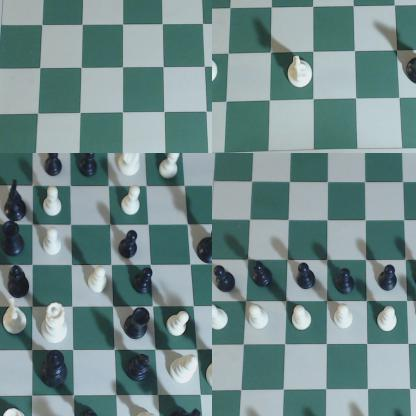black-bishop: (7, 264, 32, 303), (125, 356, 153, 388)
black-king: (43, 351, 70, 391)
black-knight: (2, 180, 27, 222), (405, 52, 416, 89), (169, 407, 204, 416)
black-pawn: (213, 257, 238, 294), (118, 231, 144, 265), (251, 258, 277, 289), (76, 154, 101, 185), (333, 268, 360, 296), (297, 260, 319, 291), (375, 265, 399, 292), (42, 154, 64, 181), (73, 404, 102, 416)
black-queen: (198, 214, 212, 270)
black-rook: (2, 220, 31, 260), (122, 307, 152, 343)
white-bishop: (167, 355, 201, 388)
white-king: (202, 346, 212, 395)
white-knight: (283, 54, 316, 92), (3, 295, 29, 340), (117, 154, 145, 179), (213, 54, 221, 88)
white-pawn: (371, 304, 401, 340), (329, 302, 360, 332), (121, 185, 146, 221), (244, 304, 275, 333), (42, 186, 69, 219), (156, 154, 187, 182), (166, 310, 194, 340), (292, 305, 315, 338), (213, 300, 234, 335), (39, 231, 62, 261), (86, 269, 108, 298)
white-queen: (40, 300, 70, 347)
white-rook: (1, 407, 30, 416)
